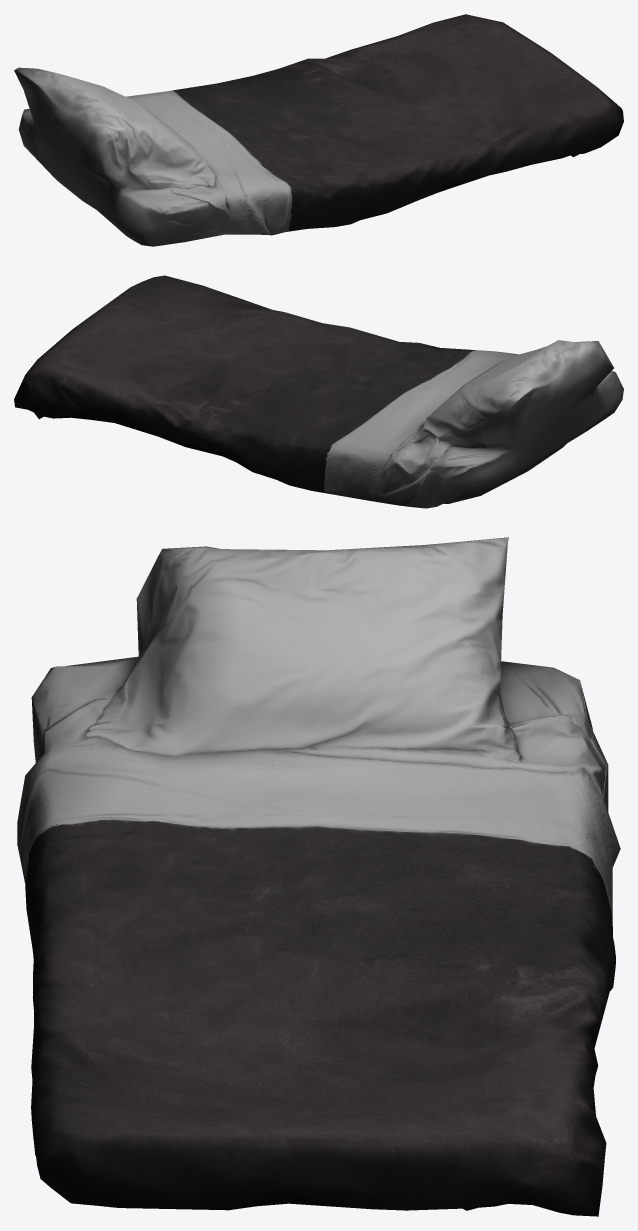
Rendered from bed_-_lowpoly_remake.glb.
3 views of the same model, one above another, from view 1: azimuth 30°, elevation 25°; view 2: azimuth 150°, elevation 25°; view 3: azimuth 270°, elevation 25° (orthographic). The views are drawn at different scales.
Visible parts, largest first — view 1: t_combined-material; view 2: t_combined-material; view 3: t_combined-material.
Part boxes in pixels (bbox=[...]): t_combined-material: bbox=[14, 14, 623, 246]; t_combined-material: bbox=[14, 275, 623, 508]; t_combined-material: bbox=[17, 537, 620, 1216].
Size of the model in its own units: 19.8 by 4.53 by 10.49.
1 material, 1 textured.
